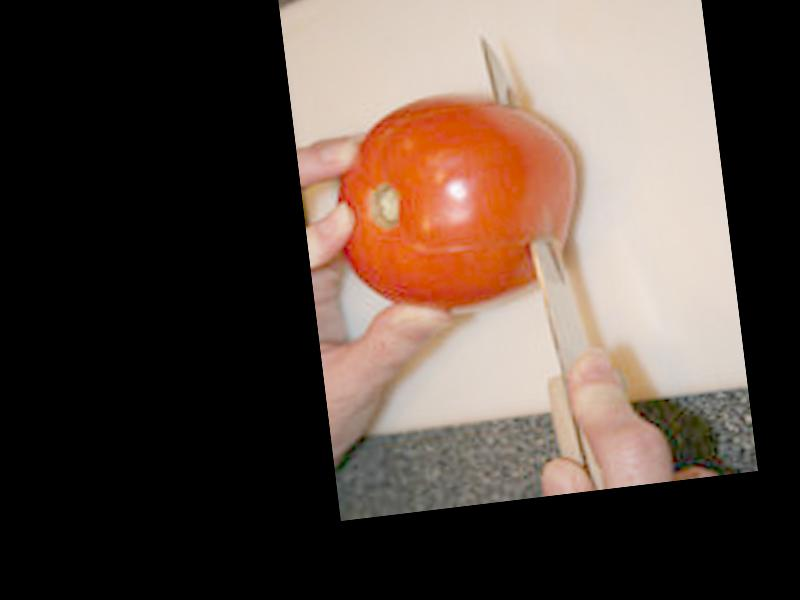Tomato: (323, 78, 589, 321)
